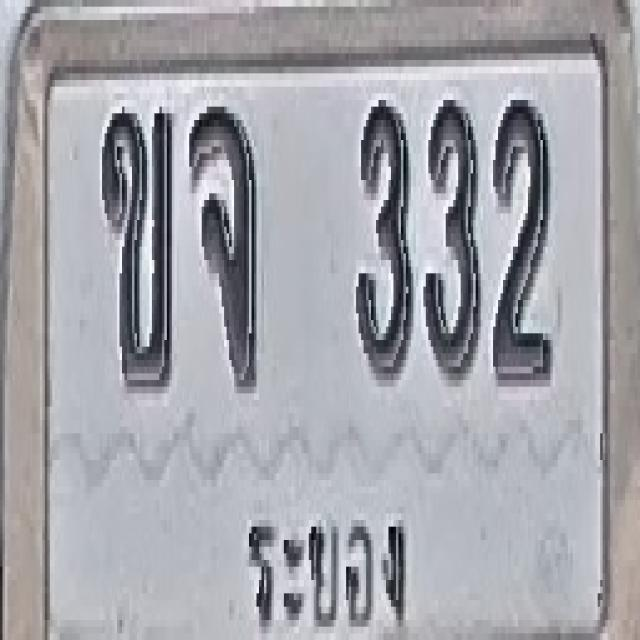2: (492, 93, 552, 380)
3: (423, 93, 481, 380), (355, 93, 412, 380)
A02: (101, 103, 173, 390)
A08: (188, 103, 258, 390)
RYG: (241, 484, 415, 640)
